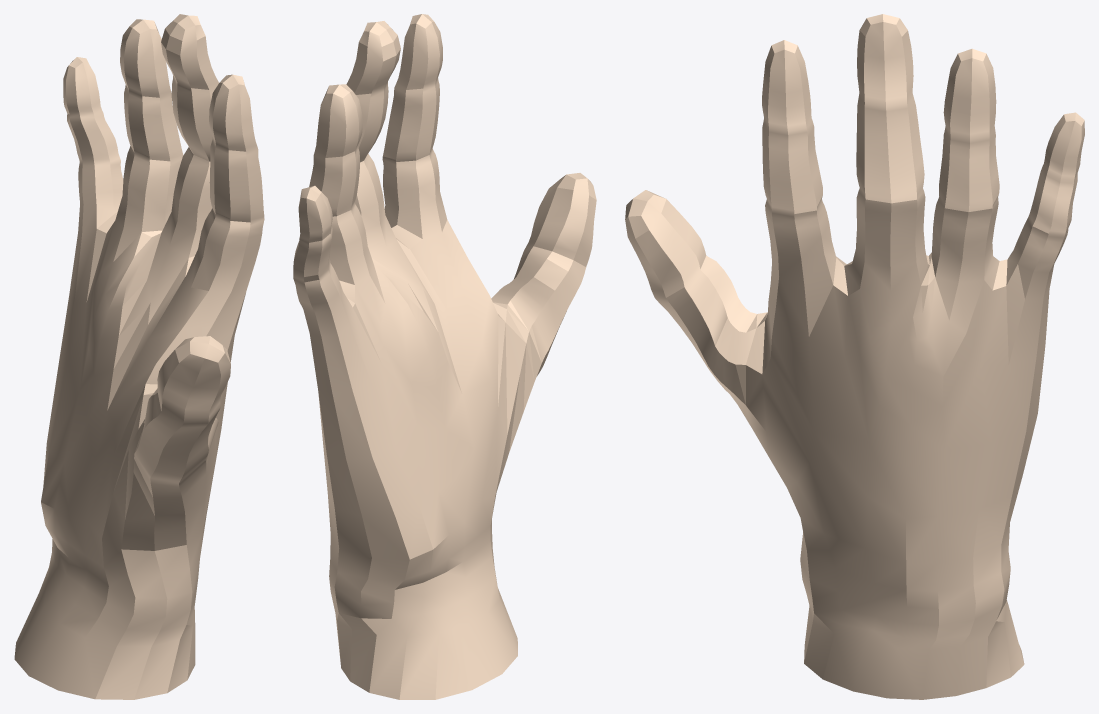
File: hand3.obj
The picture shows the model from 3 angles, left to right: view 1: azimuth 30°, elevation 25°; view 2: azimuth 150°, elevation 25°; view 3: azimuth 270°, elevation 25°; orthographic projection. The views are drawn at different scales.
Visible parts, largest first — view 1: Mesh1 Plane_default Plane skpE1E6_1 Model; view 2: Mesh1 Plane_default Plane skpE1E6_1 Model; view 3: Mesh1 Plane_default Plane skpE1E6_1 Model.
Boxes of the visible parts, x1,y1,x2,y2 form: Mesh1 Plane_default Plane skpE1E6_1 Model: (14,14,264,699); Mesh1 Plane_default Plane skpE1E6_1 Model: (293,14,596,699); Mesh1 Plane_default Plane skpE1E6_1 Model: (625,14,1084,699).
Size of the model in its own units: 8.27 by 25.45 by 15.54.
